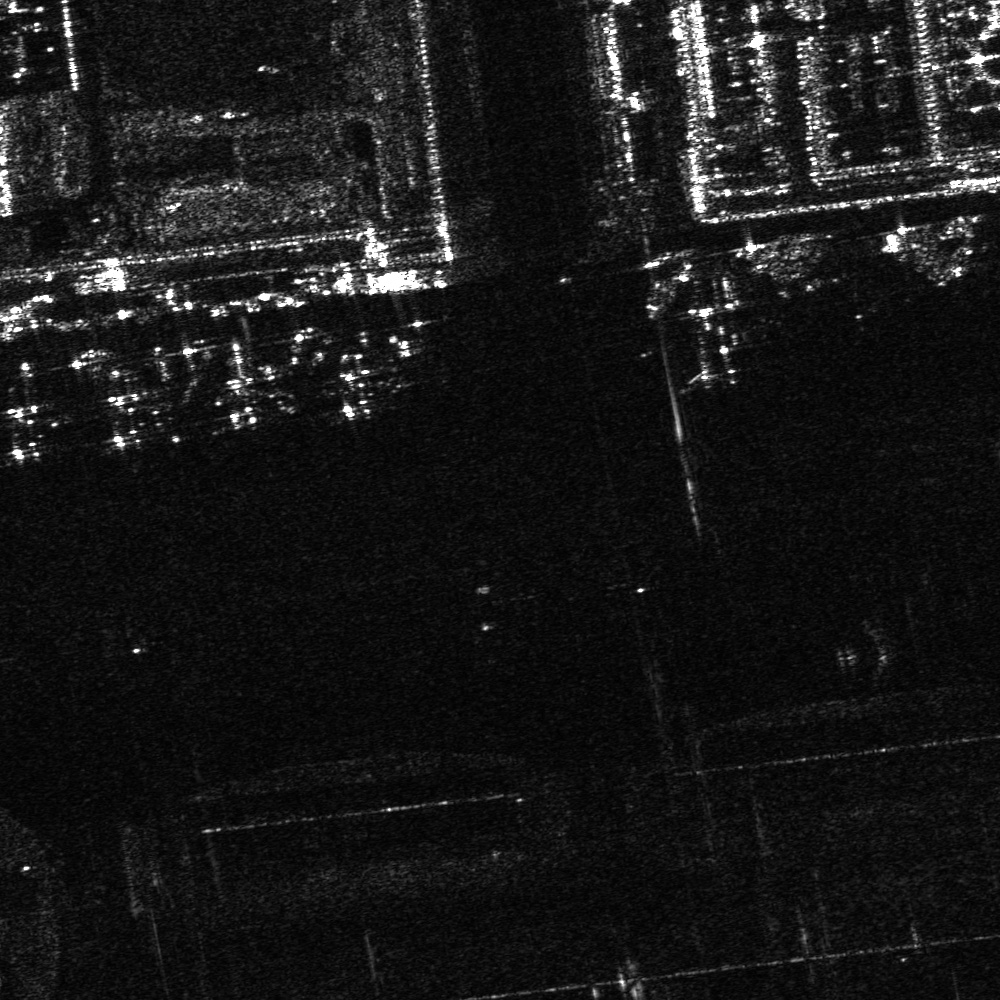Boeing787: (208, 344, 292, 438), (89, 357, 161, 444), (326, 338, 391, 421)
other: (639, 296, 771, 395)
